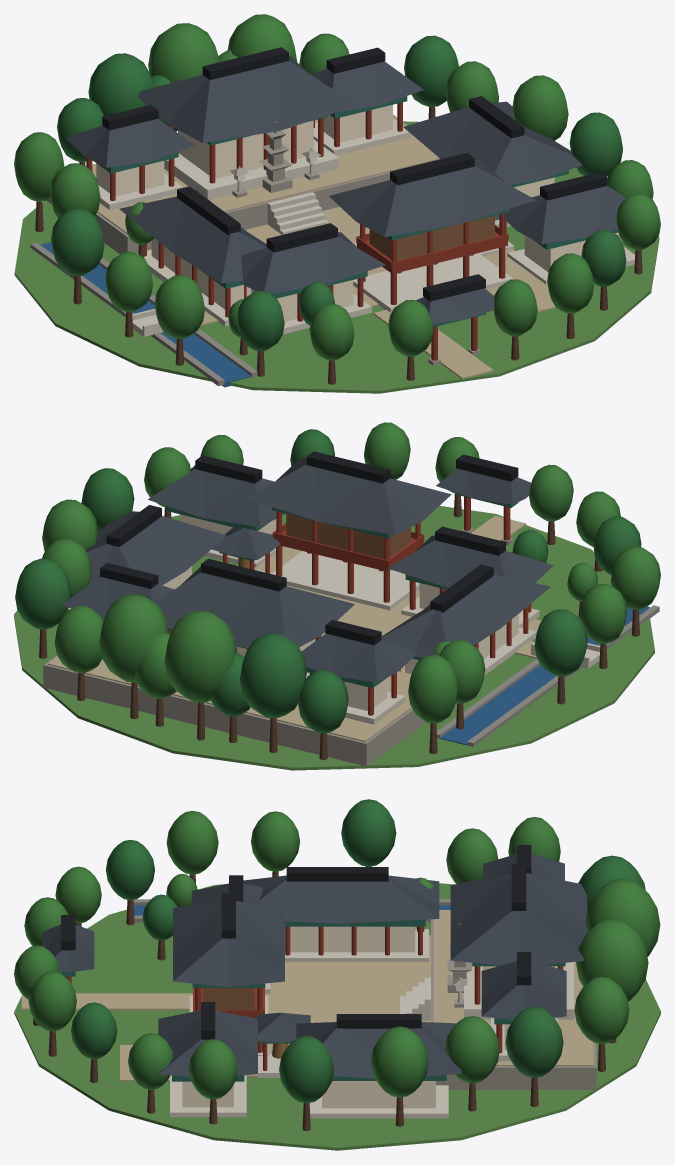
File: jingwansa.glb
3 views of the same model, one above another, from view 1: azimuth 30°, elevation 25°; view 2: azimuth 150°, elevation 25°; view 3: azimuth 270°, elevation 25° (orthographic).
Bounding box in the file's own units: 62.4 × 14 × 62.44.
